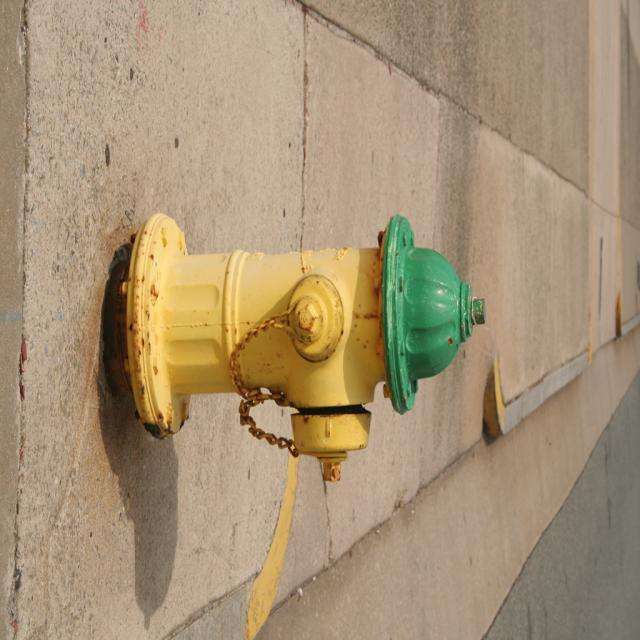fire_hydrant: (103, 214, 484, 484)
